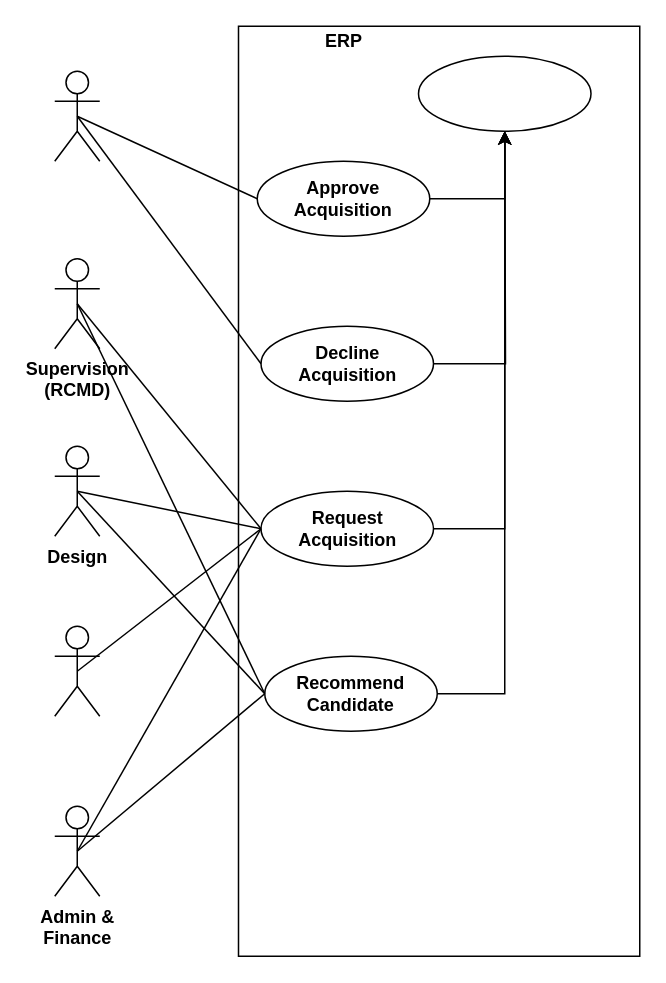
Image size: 666x983. Some labels were removed from this diagram. Here are the shapes that lost their labels. From the top down, the centre of each, then its label:
(x=504, y=93): Manage Acquisition {abstract}
(x=76, y=115): General Manager
(x=76, y=670): Laboratory
